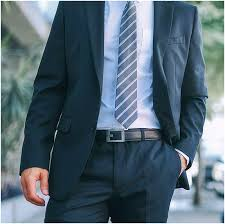F_M_suit jacket: (16, 2, 214, 190)
F_belt: (90, 123, 171, 146)
F_dress pants: (42, 136, 181, 223)
F_tie: (110, 1, 145, 133)
